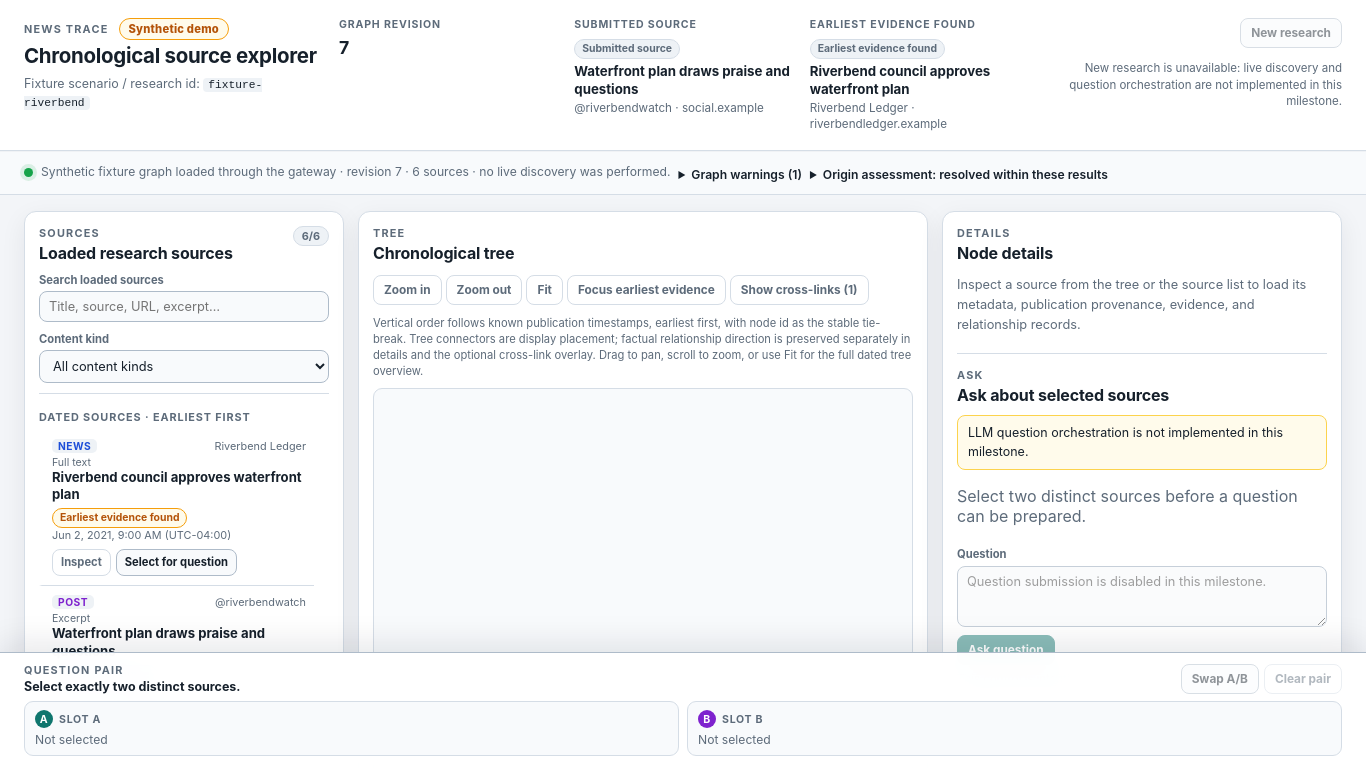
node inspection › shows a detail error without losing the tree
Click the button with test id "inspect-node-root".
click(81, 563)  # box 52,549 -> 111,576
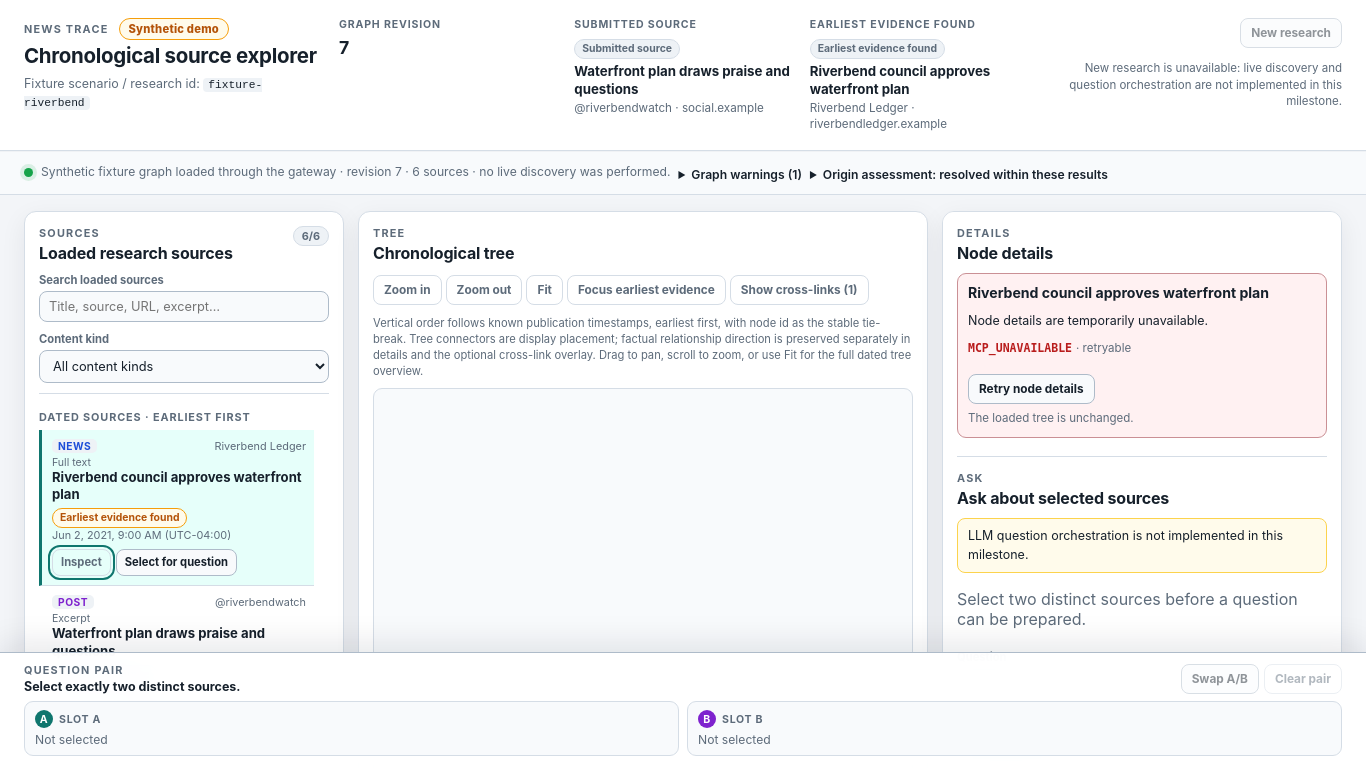
Now the 2nd message shows "Node details are temporarily unavailable.", box 968,313 -> 1208,328
Now the text "The loaded tree is unchanged." is shown, box 968,411 -> 1134,425
